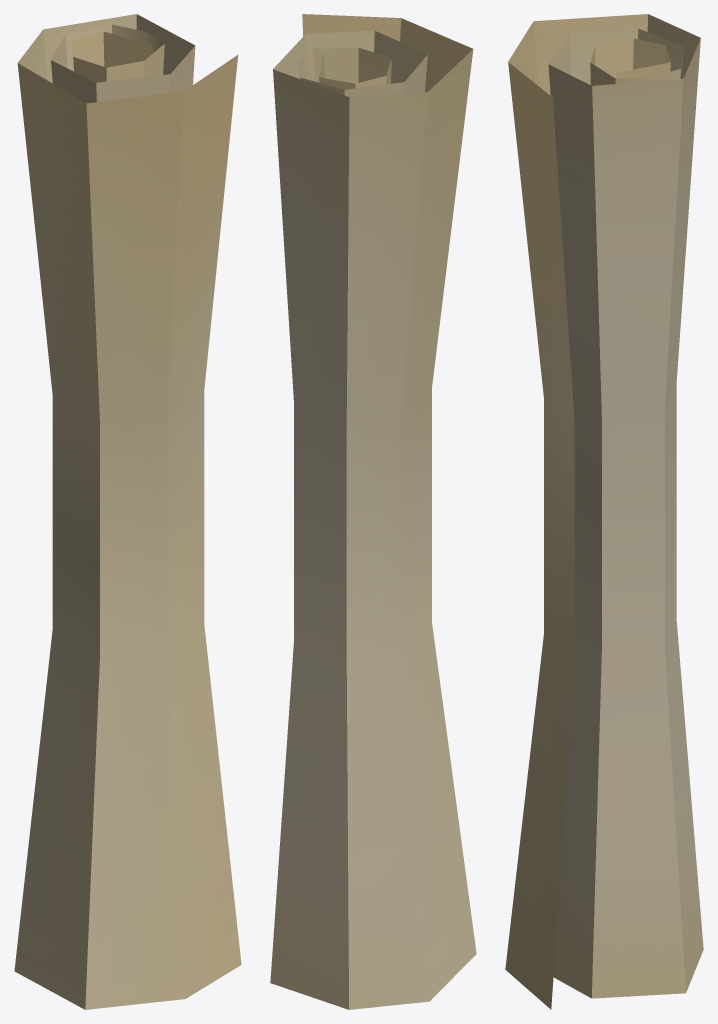
Rendered from paper2.fbx.
3 renders of one model, left to right at view 1: azimuth 30°, elevation 25°; view 2: azimuth 150°, elevation 25°; view 3: azimuth 270°, elevation 25°, orthographic.
Parts seen in each view (by area): view 1: PaperPlane2; view 2: PaperPlane2; view 3: PaperPlane2.
Boxes of the visible parts, <box> form: PaperPlane2: <box>14,14,241,1009</box>; PaperPlane2: <box>270,14,476,1009</box>; PaperPlane2: <box>505,14,703,1009</box>.
Bounding box in the file's own units: 0.724 × 3.55 × 0.6977.
Materials: 1 (1 with a texture image).
